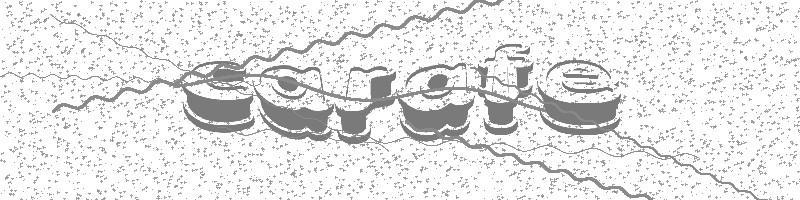a: (254, 62, 333, 142), (398, 61, 475, 142)
c: (181, 60, 256, 134)
e: (535, 59, 622, 136)
f: (477, 42, 533, 135)
r: (334, 65, 396, 144)
